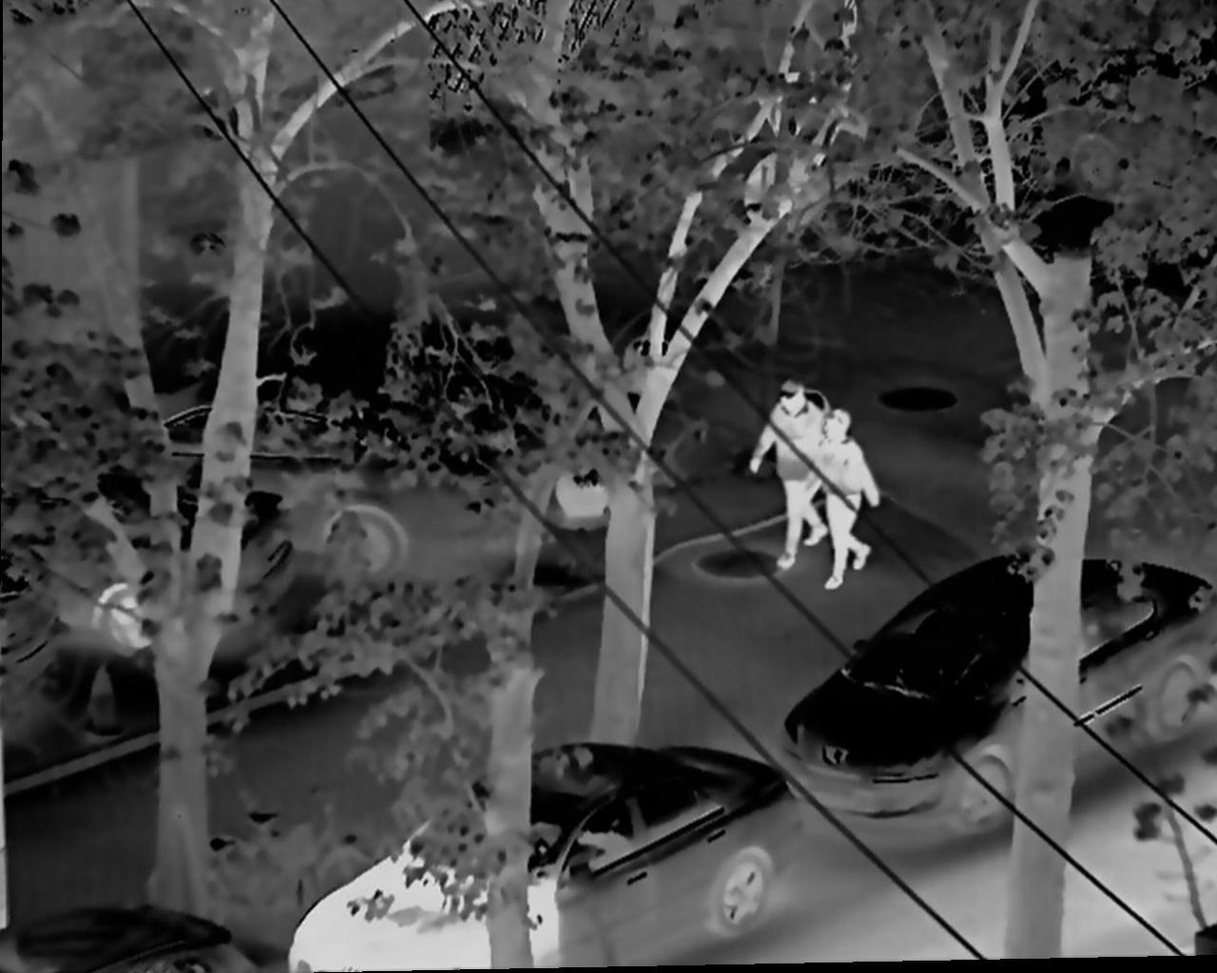person: (749, 377, 829, 566), (817, 406, 880, 593)
